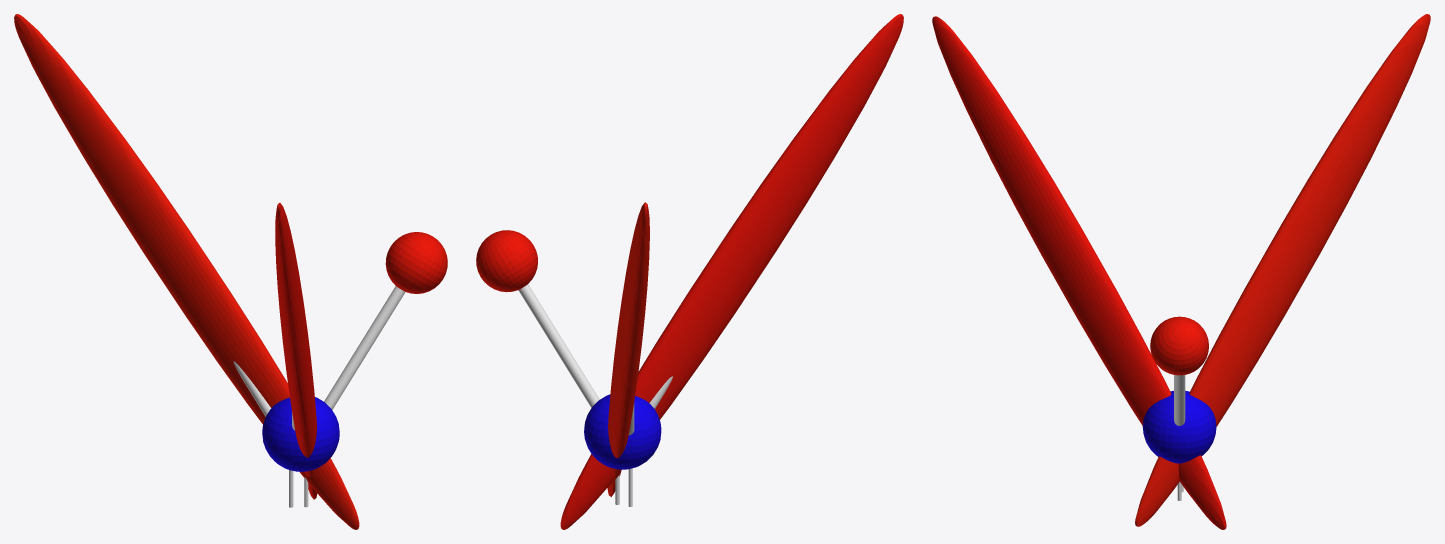
File: üçgen piramit.gltf
3 renders of one model, left to right at view 1: azimuth 30°, elevation 25°; view 2: azimuth 150°, elevation 25°; view 3: azimuth 270°, elevation 25°, orthographic. The views are drawn at different scales.
Parts seen in each view (by area): view 1: Sphere.001, Sphere.003, Sphere, Sphere.002, Cylinder; view 2: Sphere.003, Sphere.001, Sphere, Sphere.002, Cylinder; view 3: Sphere.003, Sphere.001, Sphere, Sphere.002, Cylinder.
Boxes of the visible parts, <box> form: Sphere.001: <box>14,14,359,529</box>; Sphere.003: <box>275,203,317,499</box>; Sphere: <box>262,397,339,471</box>; Sphere.002: <box>385,232,447,293</box>; Cylinder: <box>324,286,405,409</box>; Sphere.003: <box>560,14,903,529</box>; Sphere.001: <box>607,202,649,496</box>; Sphere: <box>584,394,661,469</box>; Sphere.002: <box>476,230,537,292</box>; Cylinder: <box>518,284,599,407</box>; Sphere.003: <box>932,16,1226,529</box>; Sphere.001: <box>1135,14,1430,526</box>; Sphere: <box>1142,390,1216,463</box>; Sphere.002: <box>1150,316,1208,375</box>; Cylinder: <box>1174,375,1185,425</box>.
Bounding box in the file's own units: 8.86 × 12.82 × 13.52.
